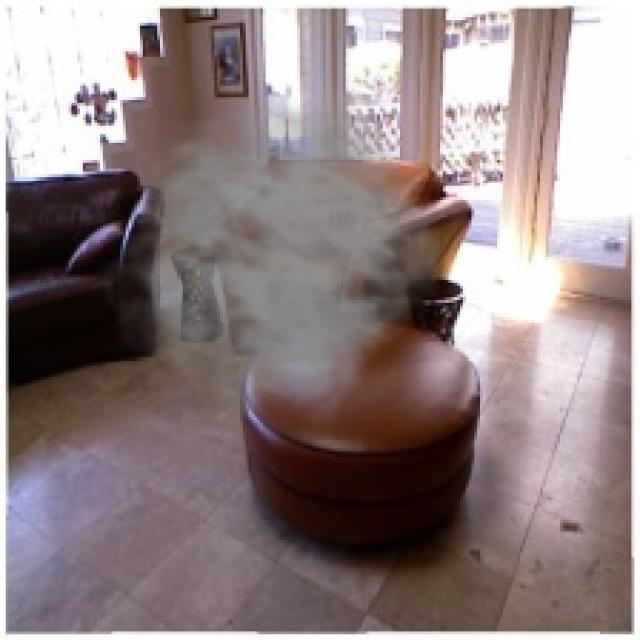Smoke: (97, 92, 443, 434)
